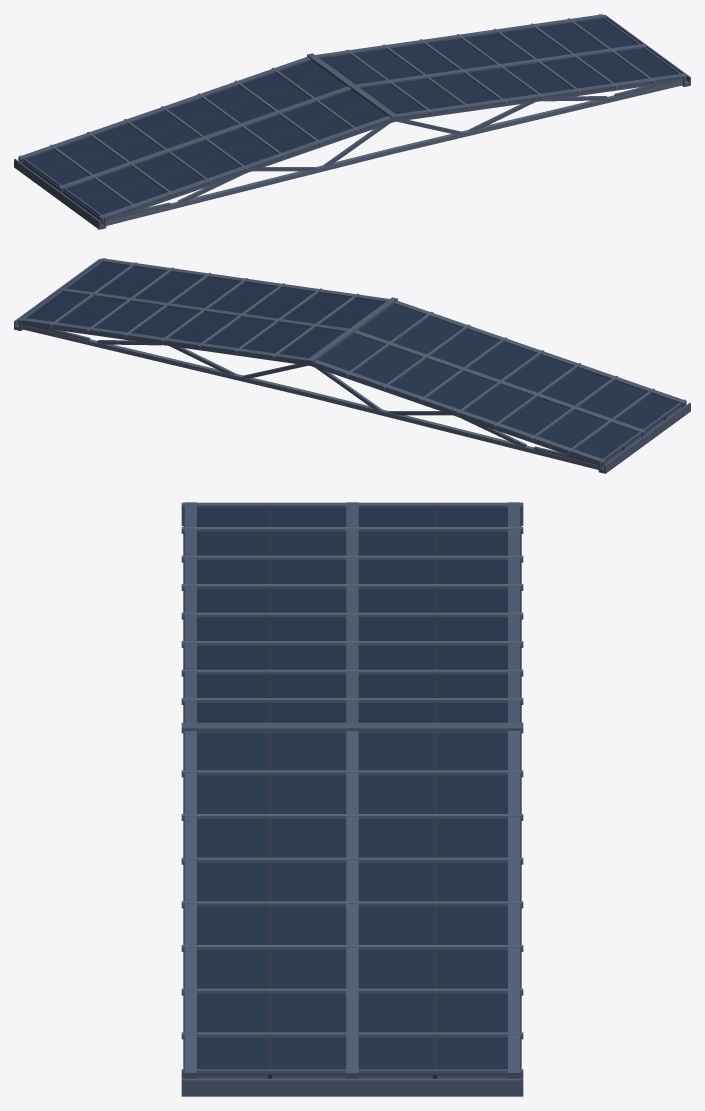
Rendered from mall_skylight.glb.
The picture shows the model from 3 angles, top to bottom: view 1: azimuth 30°, elevation 25°; view 2: azimuth 150°, elevation 25°; view 3: azimuth 270°, elevation 25°; orthographic projection. The views are drawn at different scales.
Visible parts, largest first — view 1: glass_slope, eaves_gutter, glazing_bar, purlin; view 2: glass_slope, eaves_gutter, glazing_bar, purlin; view 3: glass_slope, eaves_gutter, glazing_bar, purlin.
Boxes of the visible parts, bbox=[...] form: glass_slope: bbox=[22, 18, 683, 219]; eaves_gutter: bbox=[14, 14, 690, 229]; glazing_bar: bbox=[50, 18, 686, 225]; purlin: bbox=[39, 30, 665, 205]; glass_slope: bbox=[21, 262, 682, 463]; eaves_gutter: bbox=[14, 258, 690, 473]; glazing_bar: bbox=[18, 262, 654, 469]; purlin: bbox=[39, 274, 665, 449]; glass_slope: bbox=[183, 507, 521, 1075]; eaves_gutter: bbox=[181, 502, 523, 1096]; glazing_bar: bbox=[181, 527, 523, 1039]; purlin: bbox=[267, 507, 437, 1078].
Bounding box in the file's own units: 24 × 1.6 × 6.
